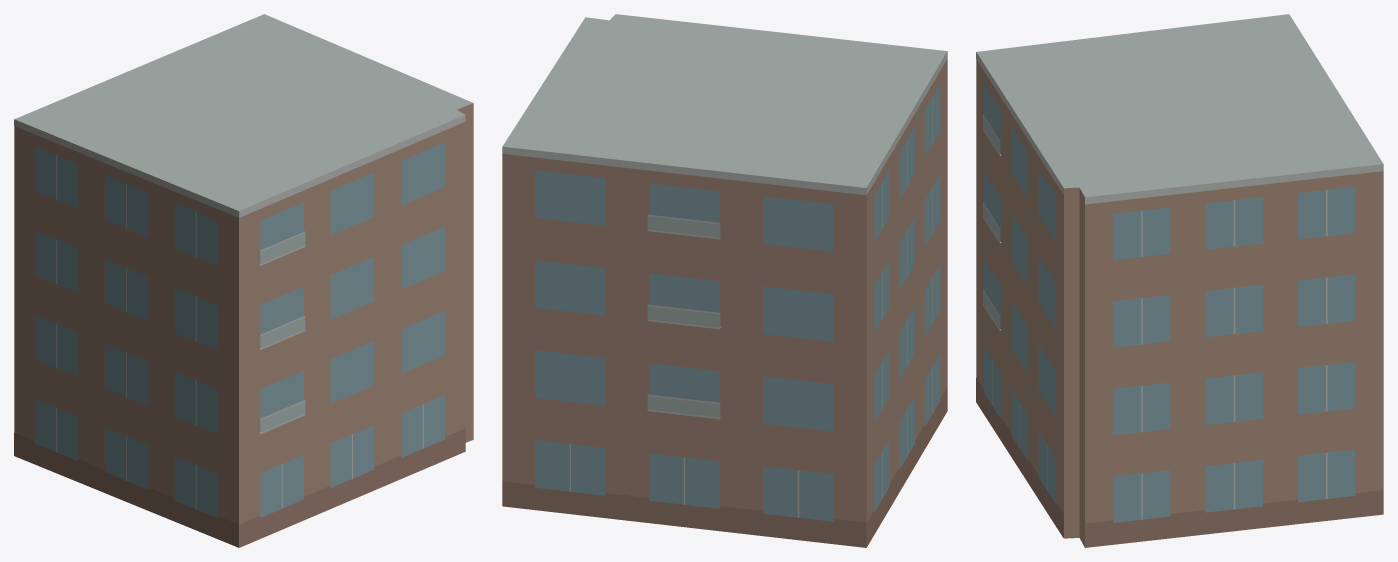
The model's file is survey-upis-32953455.glb.
3 renders of one model, left to right at view 1: azimuth 30°, elevation 25°; view 2: azimuth 150°, elevation 25°; view 3: azimuth 270°, elevation 25°, orthographic. The views are drawn at different scales.
Visible parts, largest first — view 1: survey-upis-32953455.tmp; view 2: survey-upis-32953455.tmp; view 3: survey-upis-32953455.tmp.
Boxes of the visible parts, x1,y1,x2,y2 form: survey-upis-32953455.tmp: [14, 14, 473, 547]; survey-upis-32953455.tmp: [502, 14, 947, 547]; survey-upis-32953455.tmp: [976, 14, 1383, 547].
Size of the model in its own units: 13.71 by 12.2 by 12.87.
